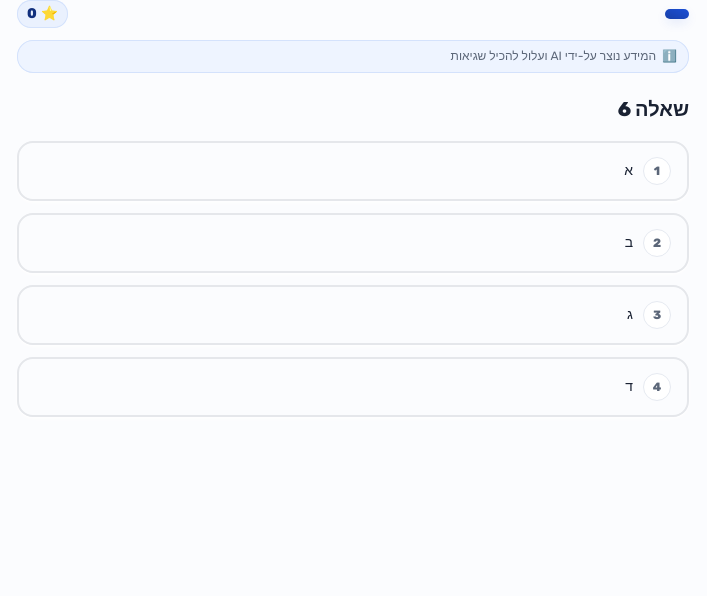
LessonPlayer › תשובה נכונה → XP-floater + ניקוד מצטבר ב-header
Click the radio button labelled "2 ב".
click(353, 243)  # box [17, 213, 689, 273]
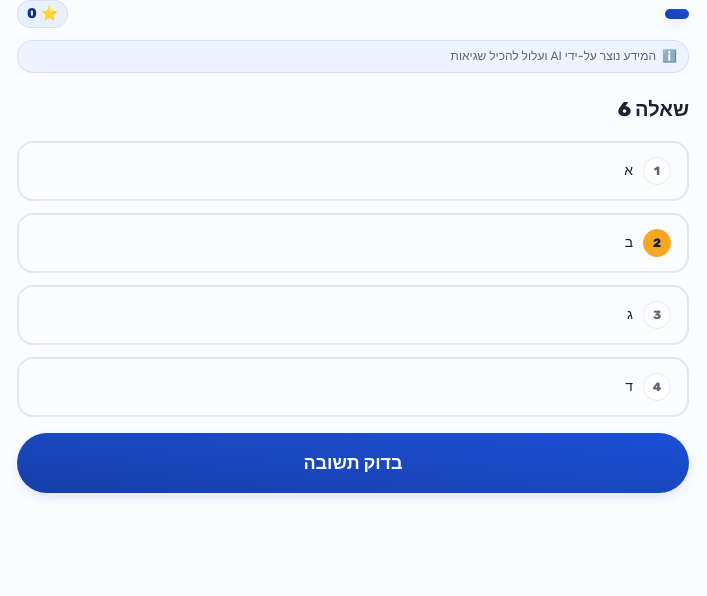
Click the button with test id "check-answer-button".
click(353, 463)  # box [17, 433, 689, 493]
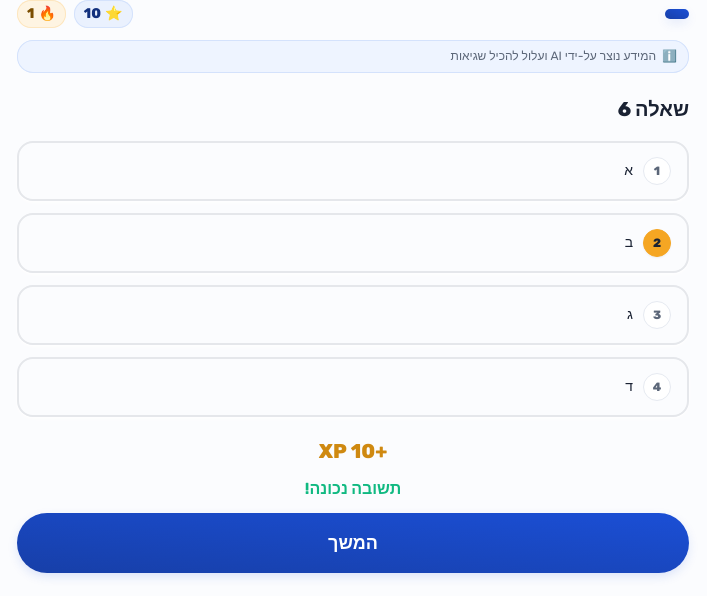
Check: the message "+10 XP תשובה נכונה! המשך" is shown, box [17, 437, 689, 573]
Check: the text "+10 XP" is shown, box [319, 437, 387, 465]
Check: the element with test id "xp-counter" shows "10", box [84, 5, 101, 22]
